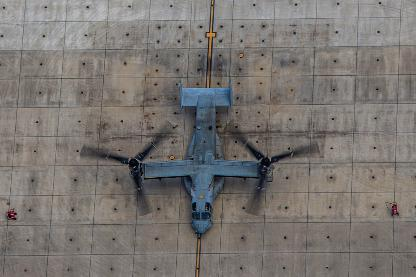Tornado: (80, 77, 318, 234)
